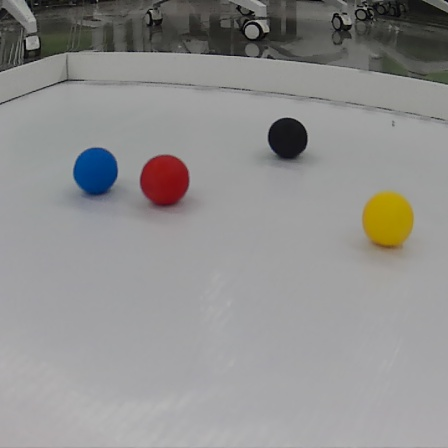black: (264, 115, 314, 162)
blue: (65, 139, 124, 203)
red: (140, 155, 190, 206)
yellow: (364, 191, 416, 250)
